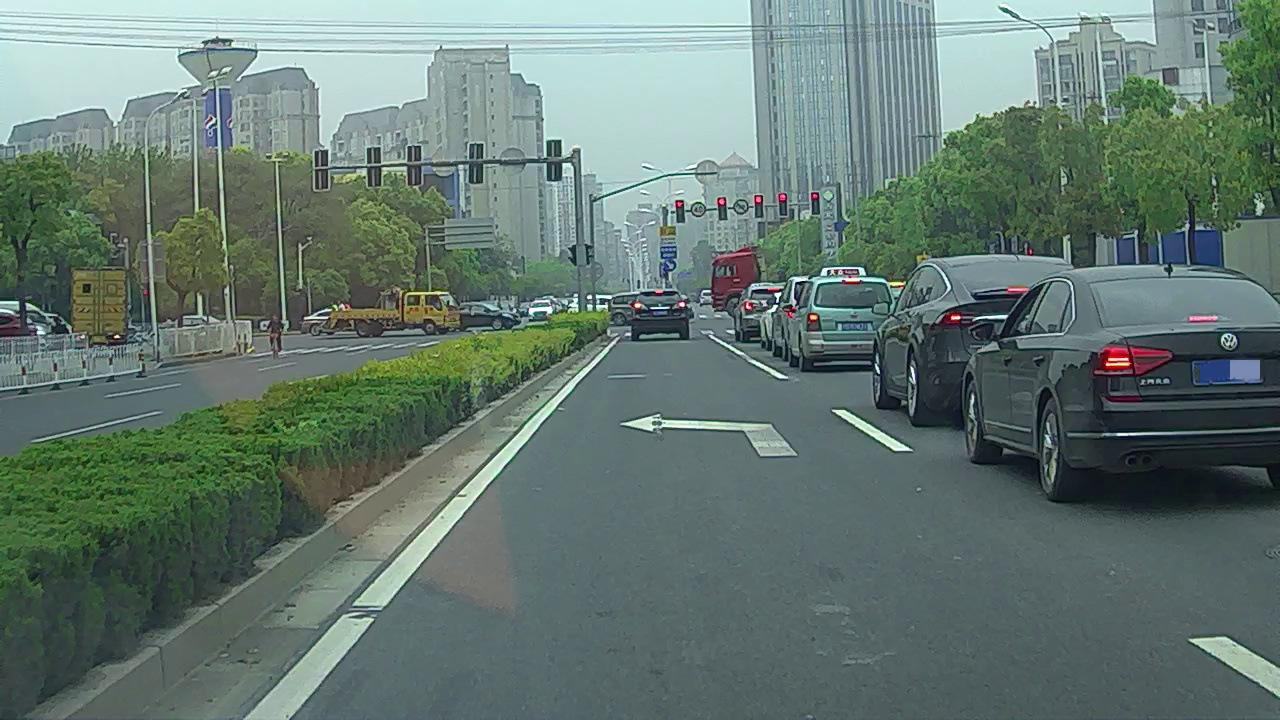traffic_light: (675, 200, 685, 223), (717, 197, 727, 220), (754, 194, 763, 218), (811, 192, 820, 216), (779, 193, 788, 216)
